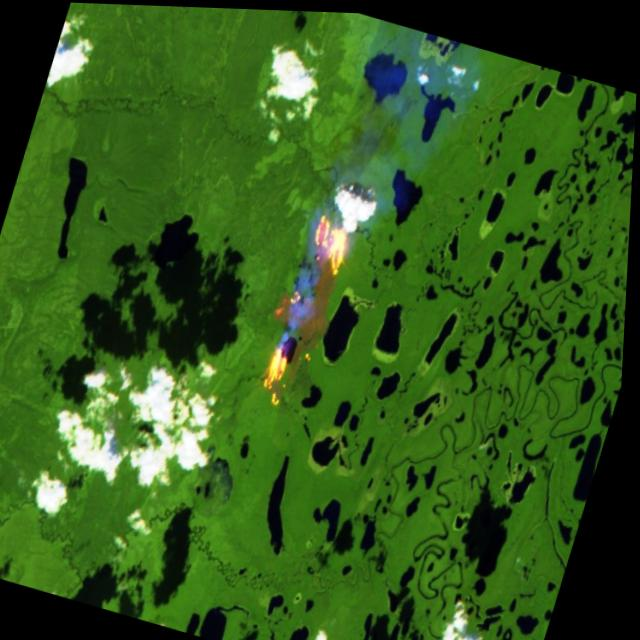fire: (251, 201, 362, 414)
